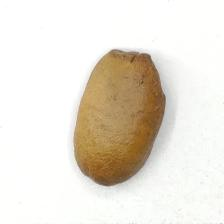NG: (115, 49, 166, 102)
